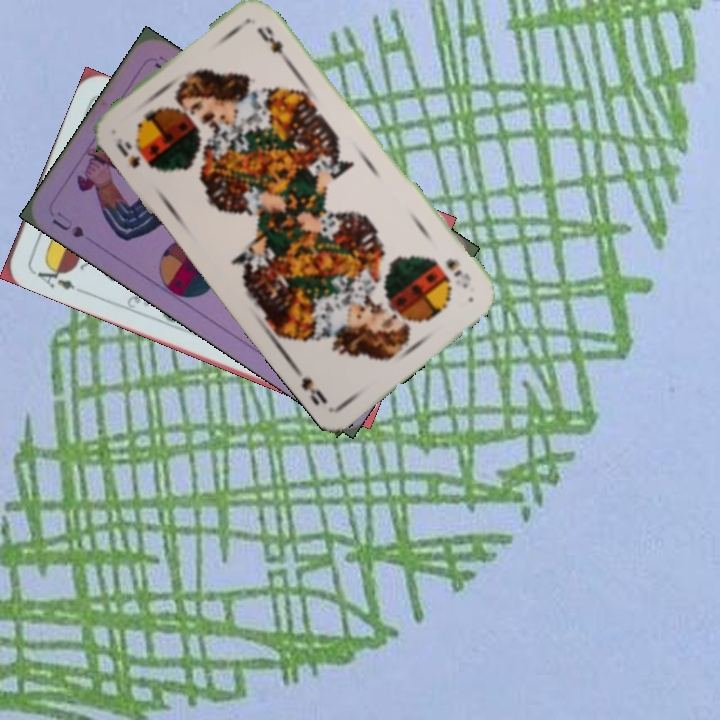EA: (28, 259, 78, 293)
SO: (112, 136, 155, 172), (441, 254, 474, 291)
SU: (47, 207, 87, 241)
